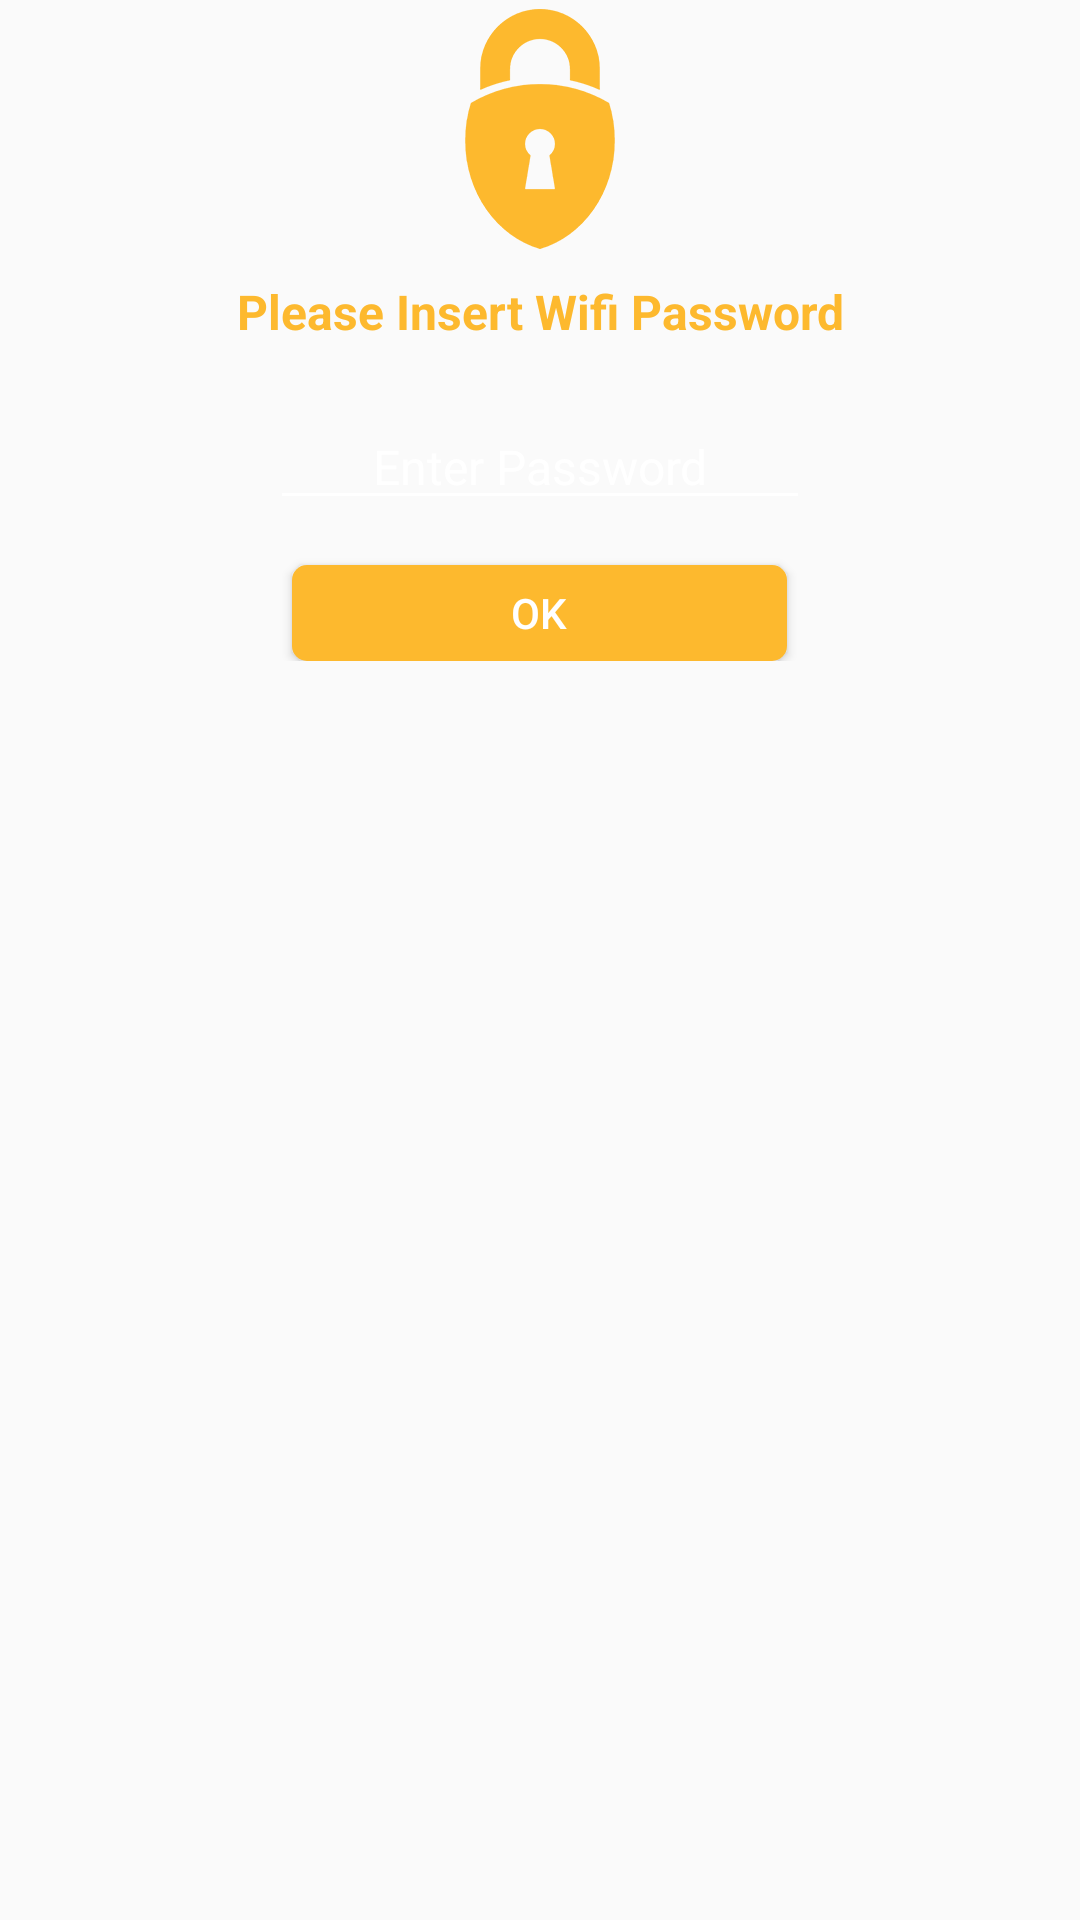

Where icons sit on this 1080 x 1920 app screen, as BBox(x1, y1, x2, y2):
locker: BBox(465, 9, 615, 249)
